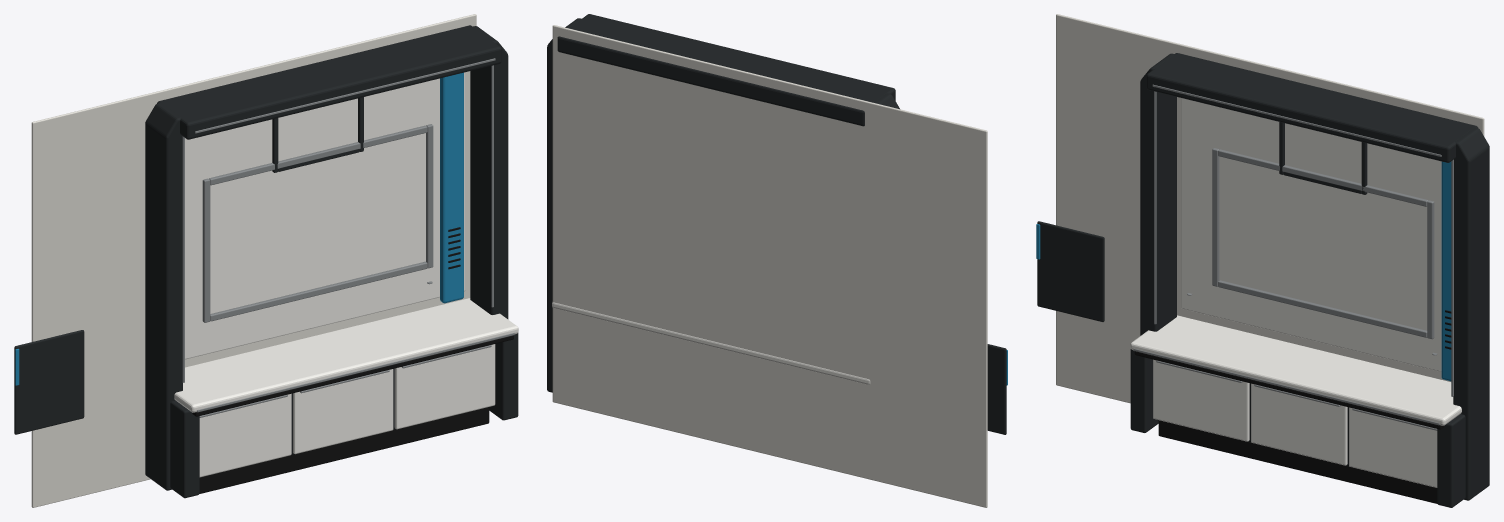
Rendered from bnp-housing.glb.
3 views of the same model, side by side, from view 1: azimuth 30°, elevation 25°; view 2: azimuth 150°, elevation 25°; view 3: azimuth 330°, elevation 25° (orthographic). The views are drawn at different scales.
Visible parts, largest first — view 1: BNP static enclosure; view 2: BNP static enclosure; view 3: BNP static enclosure.
Part boxes in pixels (<box>): BNP static enclosure: <box>14,14,518,507</box>; BNP static enclosure: <box>547,14,1007,507</box>; BNP static enclosure: <box>1036,14,1489,507</box>.
Size of the model in its own units: 4.35 by 3.42 by 0.699.
